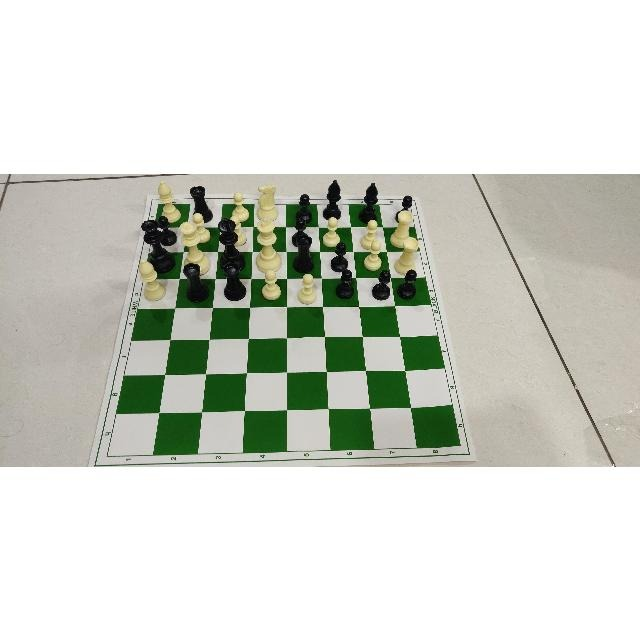black-bishop: (357, 180, 380, 223), (323, 178, 343, 221)
black-king: (217, 216, 247, 272)
black-pawn: (329, 241, 354, 271), (397, 268, 421, 299), (154, 214, 178, 245), (291, 215, 314, 246), (331, 270, 355, 299), (293, 193, 316, 223), (371, 270, 391, 300), (393, 194, 414, 221)
black-queen: (140, 219, 176, 271)
black-rook: (180, 260, 212, 307), (217, 259, 247, 303), (190, 184, 214, 222), (292, 235, 315, 270)
white-bishop: (132, 259, 170, 303), (156, 181, 182, 223)
white-king: (254, 217, 281, 274)
white-knight: (254, 183, 281, 221)
white-pawn: (295, 271, 321, 306), (261, 266, 283, 306), (187, 210, 210, 244), (363, 240, 386, 270), (360, 217, 382, 248), (226, 215, 247, 247), (230, 191, 250, 223), (322, 216, 342, 247)
white-queen: (180, 219, 212, 274)
white-rook: (394, 234, 419, 274), (389, 209, 415, 247)
